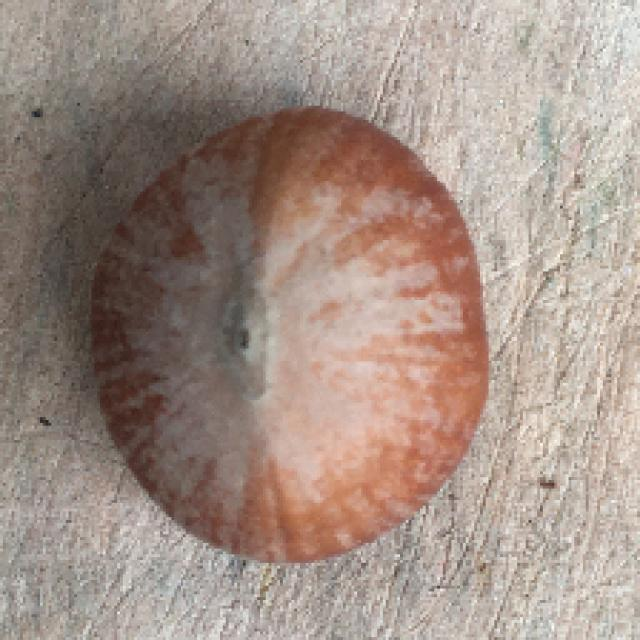qualityHazelnut: (89, 104, 489, 564)
